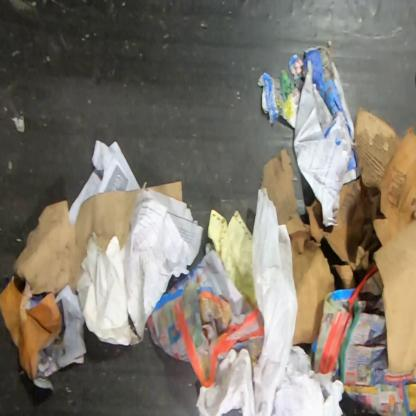cardboard: (13, 181, 184, 296), (305, 107, 401, 272), (260, 147, 336, 346), (371, 217, 415, 379), (0, 275, 64, 382), (371, 124, 415, 247), (330, 264, 356, 302)
soft_plastic: (194, 187, 345, 415)
